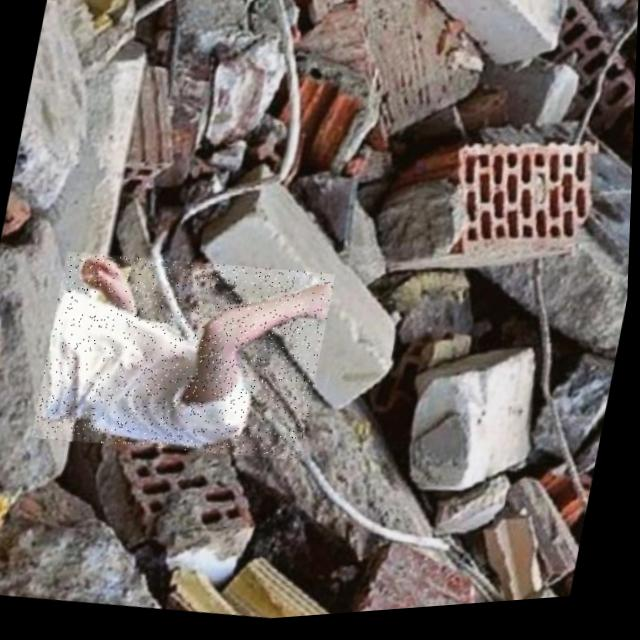Person in Rubble: (32, 237, 338, 480)
